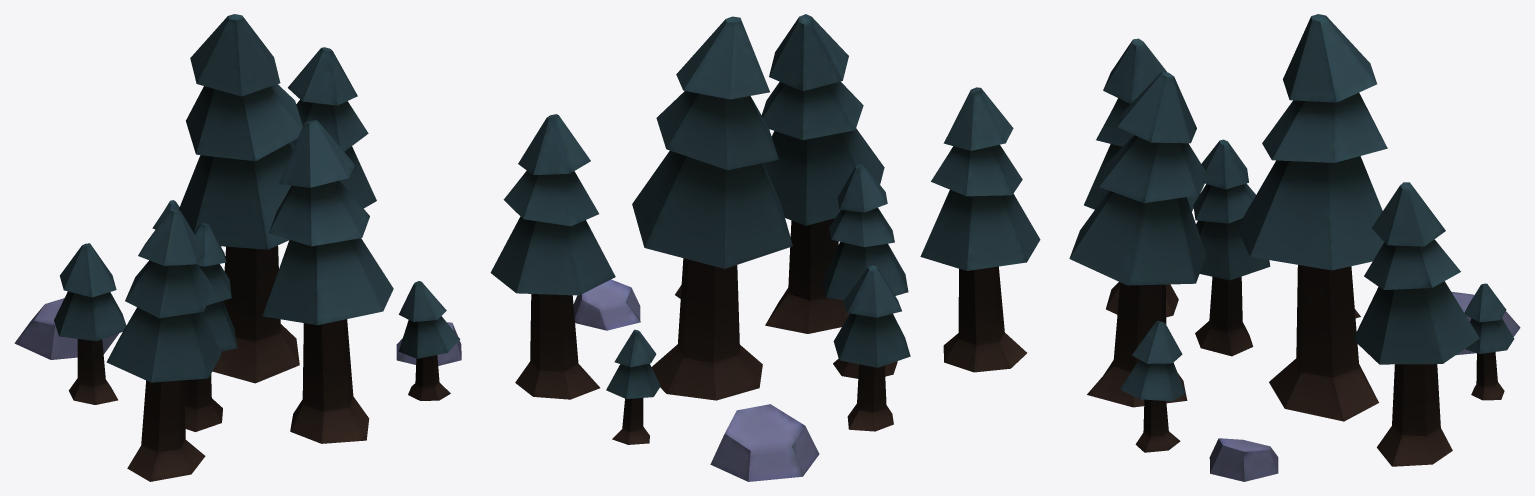
File: tile_wood_3_lod0.fbx
3 views of the same model, side by side, from view 1: azimuth 30°, elevation 25°; view 2: azimuth 150°, elevation 25°; view 3: azimuth 270°, elevation 25° (orthographic). The views are drawn at different scales.
Visible parts, largest first — view 1: wood_3_lod0; view 2: wood_3_lod0; view 3: wood_3_lod0.
Part boxes in pixels (box(x1,y1,x2,y2)): wood_3_lod0: box(14, 14, 461, 481); wood_3_lod0: box(490, 14, 1040, 481); wood_3_lod0: box(1069, 14, 1520, 481).
Size of the model in its own units: 0.0541 by 0.0454 by 0.0506.
